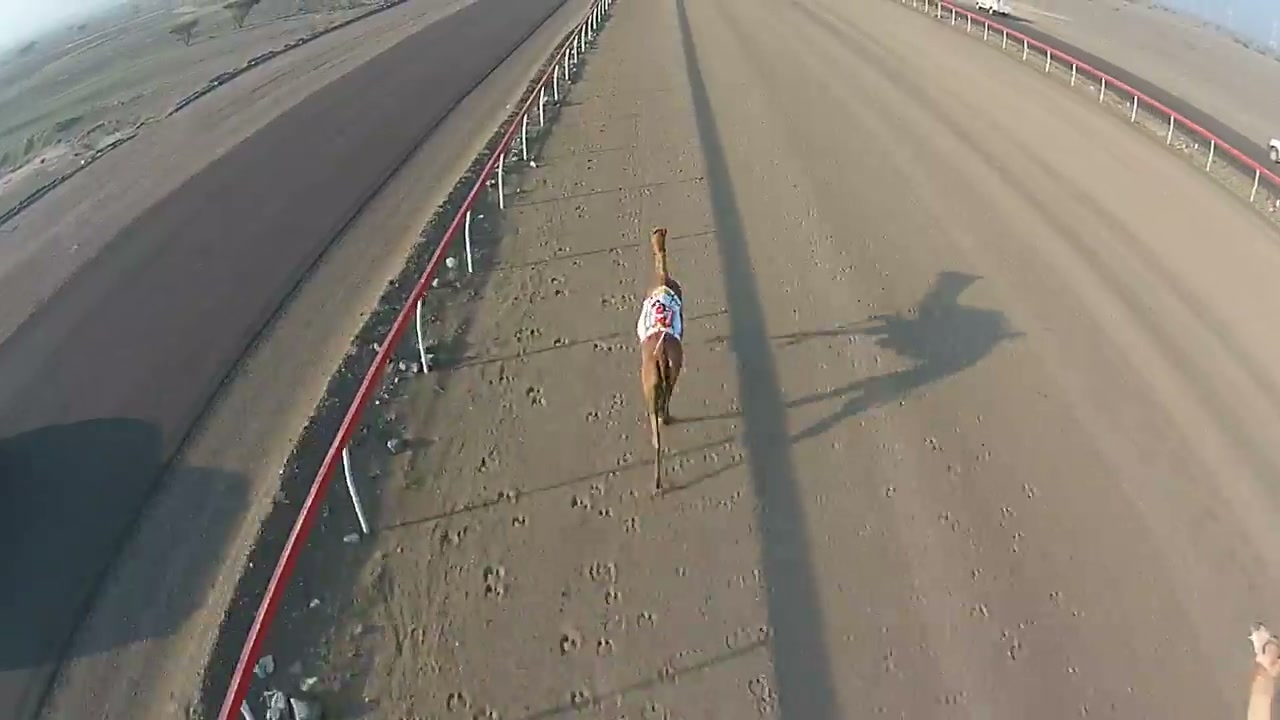animal_footprint: (442, 269, 660, 719)
